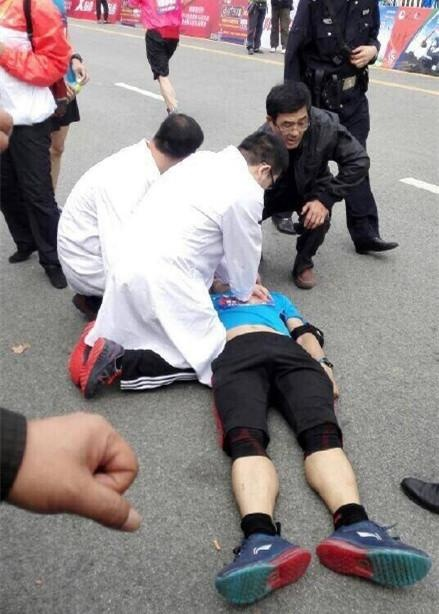falling: (186, 271, 434, 597)
